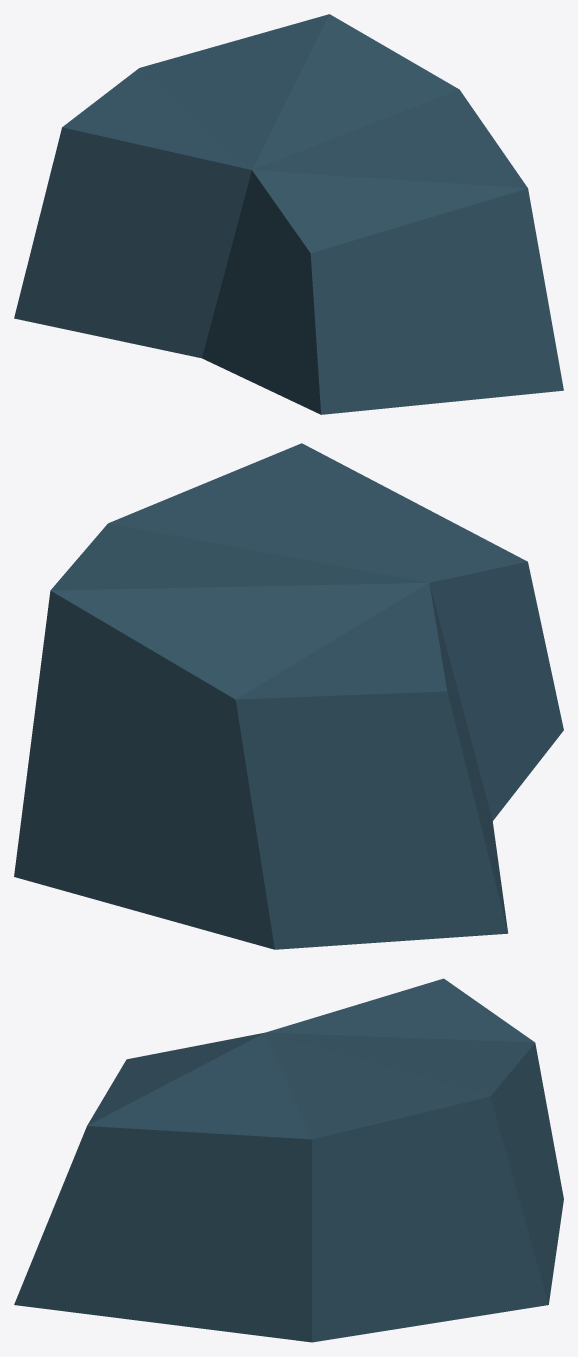
The model's file is FlatRock-C14.fbx.
3 renders of one model, top to bottom at view 1: azimuth 30°, elevation 25°; view 2: azimuth 150°, elevation 25°; view 3: azimuth 270°, elevation 25°, orthographic. The views are drawn at different scales.
Parts seen in each view (by area): view 1: FlatRock-C14; view 2: FlatRock-C14; view 3: FlatRock-C14.
Part boxes in pixels (x1,y1,x2,y2): FlatRock-C14: [14, 14, 563, 414]; FlatRock-C14: [14, 443, 563, 949]; FlatRock-C14: [14, 978, 563, 1342].
Bounding box in the file's own units: 116 × 54.84 × 131.
